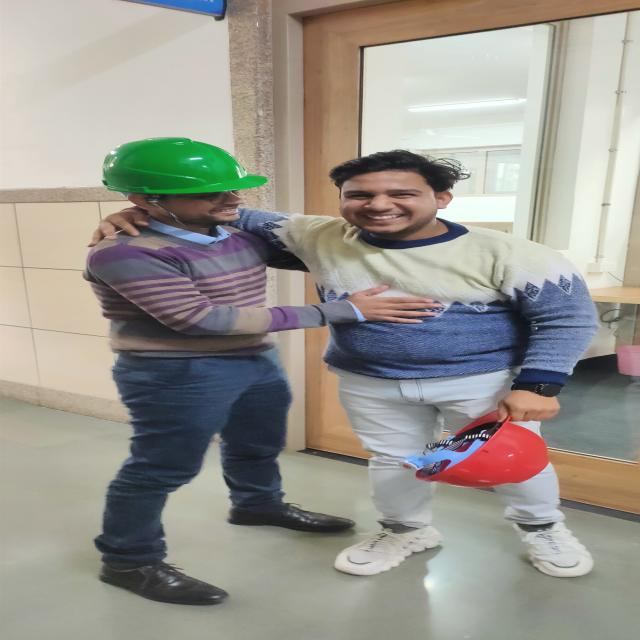no jacket: (86, 135, 352, 612)
unsafe: (323, 150, 598, 580)
